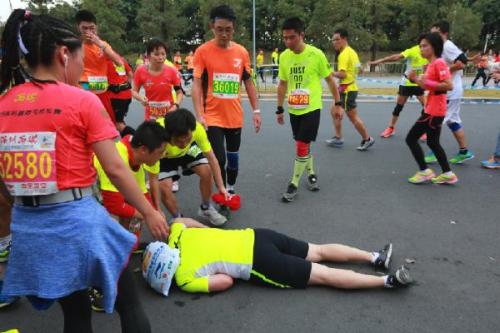10+: (1, 4, 498, 333)
down: (127, 214, 418, 298)
